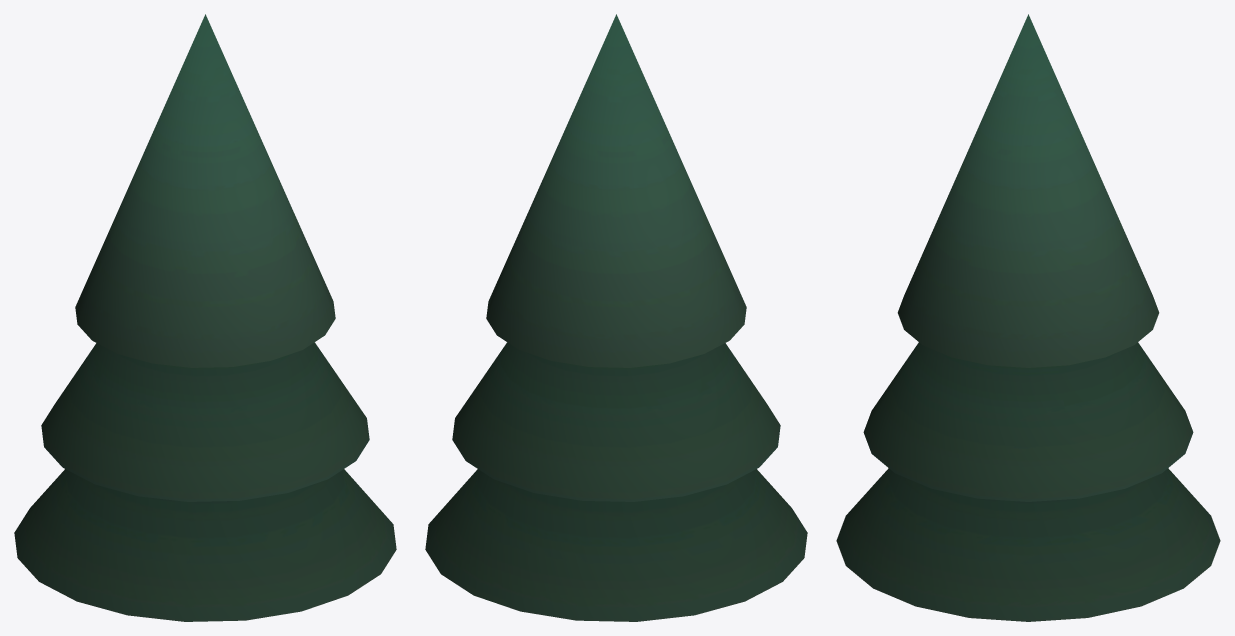
The model's file is Map_Tree_Spooky_B.fbx.
3 renders of one model, left to right at view 1: azimuth 30°, elevation 25°; view 2: azimuth 150°, elevation 25°; view 3: azimuth 270°, elevation 25°, orthographic.
Visible parts, largest first — view 1: Map_Tree_Spooky_B; view 2: Map_Tree_Spooky_B; view 3: Map_Tree_Spooky_B.
Part boxes in pixels (box(x1,y1,x2,y2)): Map_Tree_Spooky_B: box(14, 14, 396, 621); Map_Tree_Spooky_B: box(425, 14, 807, 621); Map_Tree_Spooky_B: box(836, 14, 1220, 621).
Bounding box in the file's own units: 0.4979 × 0.7535 × 0.4979.
